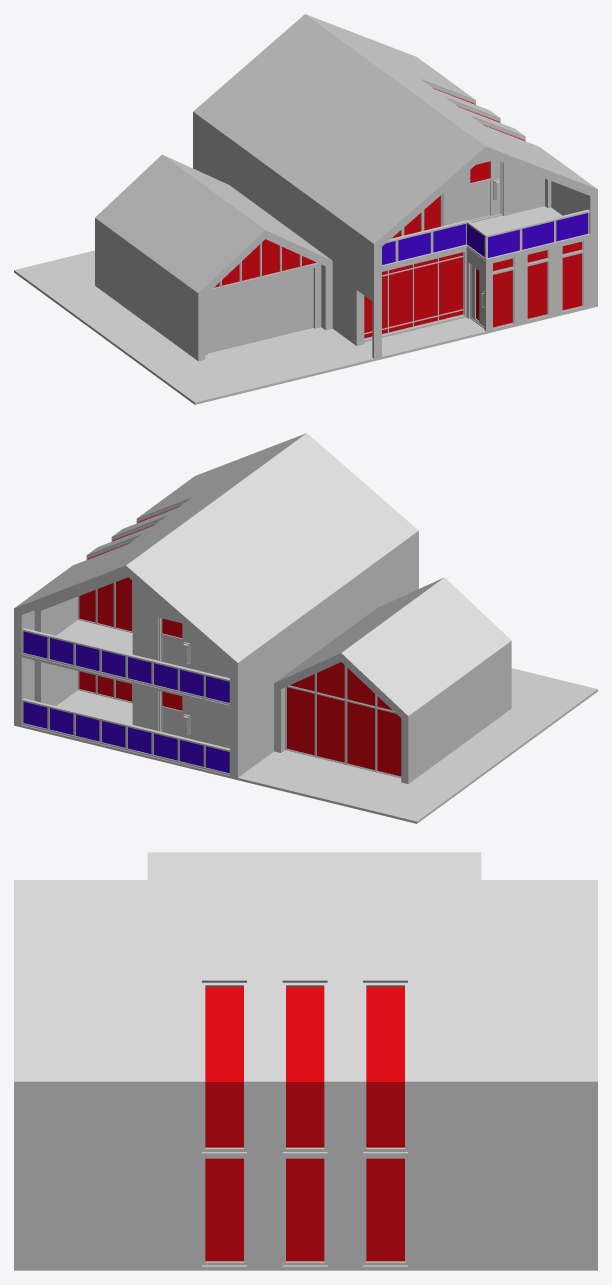
The model's file is SM_cottage_05.glb.
3 views of the same model, one above another, from view 1: azimuth 30°, elevation 25°; view 2: azimuth 150°, elevation 25°; view 3: azimuth 270°, elevation 25° (orthographic). The views are drawn at different scales.
Parts seen in each view (by area): view 1: cottage_05; view 2: cottage_05; view 3: cottage_05.
Part boxes in pixels (x1=…): cottage_05: x1=14, y1=14, x2=597, y2=404; cottage_05: x1=14, y1=433, x2=597, y2=823; cottage_05: x1=14, y1=852, x2=597, y2=1270.
Bounding box in the file's own units: 18 × 8 × 14.
